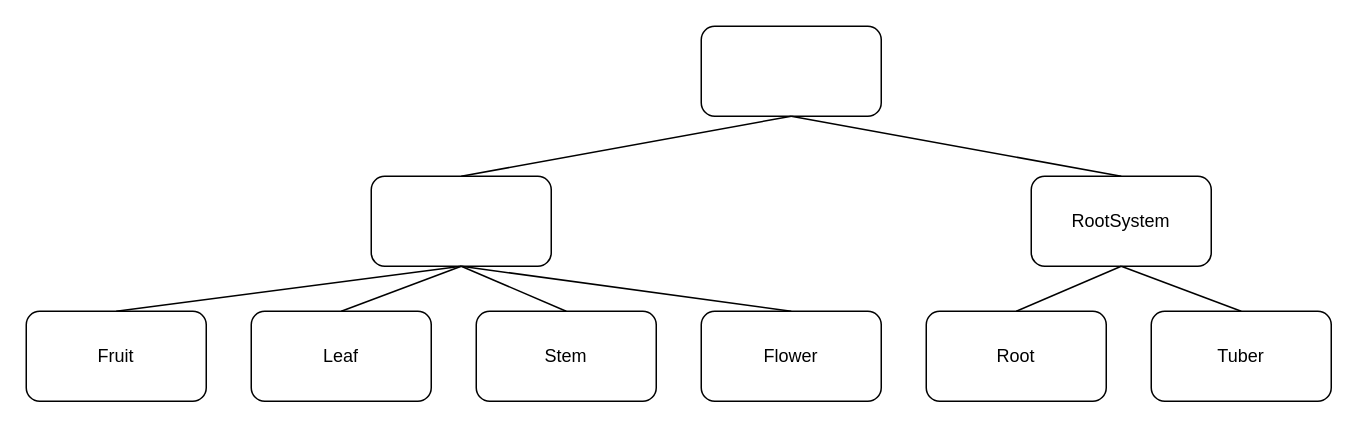
The diagram is 1358 pixels wide and 428 high, and some of its shapes have lost their labels. The shapes that lost their labels are listed below. From the top down, each one's centre as x and y in pixels, then its label:
At (790,70): "Plant".
At (460,220): "ShootSystem".
